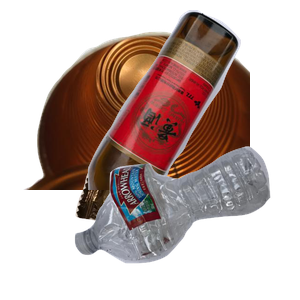glass: (85, 10, 300, 190)
metal: (21, 29, 261, 209)
plastic: (72, 144, 300, 300)
trash: (73, 171, 242, 300)
